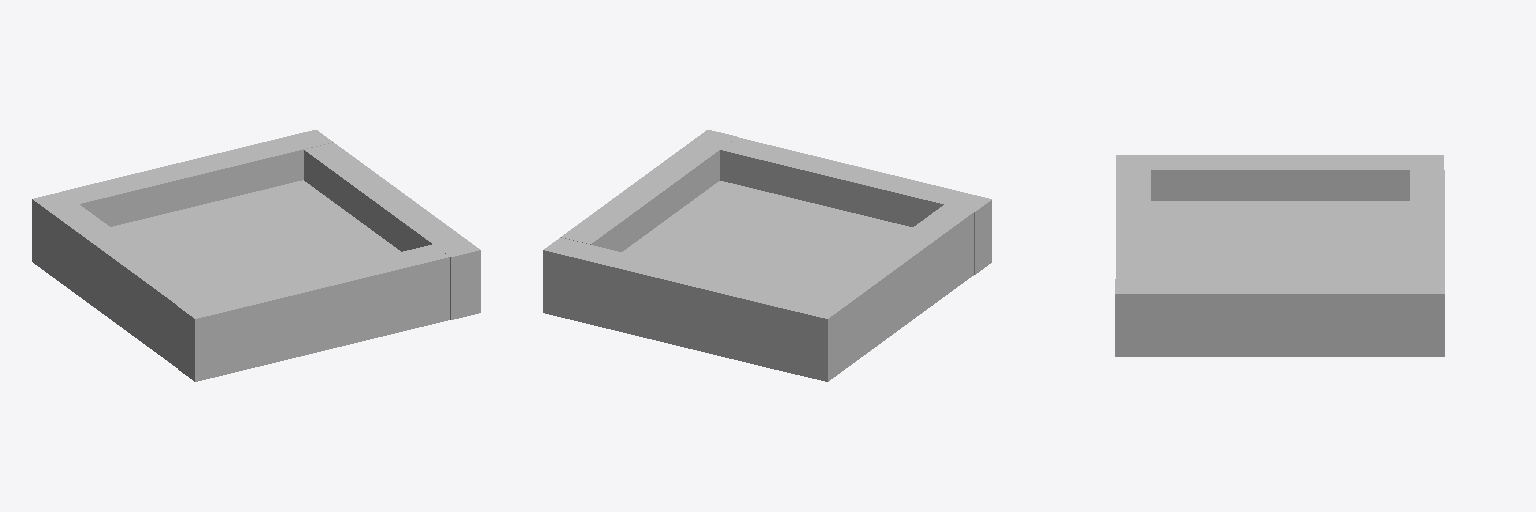
Rendered from MapNoObstacles.obj.
3 renders of one model, left to right at view 1: azimuth 30°, elevation 25°; view 2: azimuth 150°, elevation 25°; view 3: azimuth 270°, elevation 25°, orthographic.
Visible parts, largest first — view 1: Cube.002, Cube, Cube.004, Cube.001, Cube.003; view 2: Cube.001, Cube, Cube.004, Cube.002, Cube.003; view 3: Cube.003, Cube, Cube.004, Cube.001, Cube.002.
Part boxes in pixels (x1,y1,x2,y2): Cube.002: (178,244,449,381); Cube: (111,180,400,298); Cube.004: (32,192,207,367); Cube.001: (62,130,332,226); Cube.003: (304,142,480,319); Cube.001: (543,237,814,374); Cube: (623,181,912,298); Cube.004: (798,205,973,381); Cube.002: (720,137,991,274); Cube.003: (561,130,736,251); Cube.003: (1115,279,1409,356); Cube: (1151,201,1409,278); Cube.004: (1151,155,1443,200); Cube.001: (1410,170,1444,356); Cube.002: (1116,155,1150,278).
Size of the model in its own units: 190 by 40 by 190.